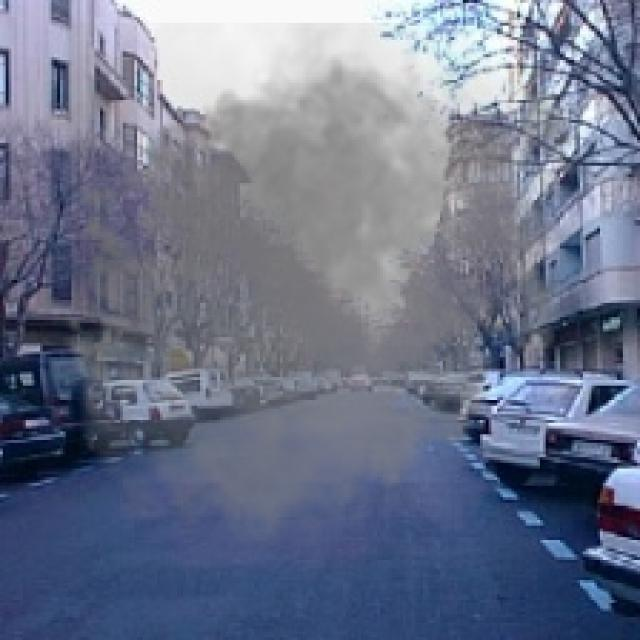Smoke: (54, 23, 592, 566)
